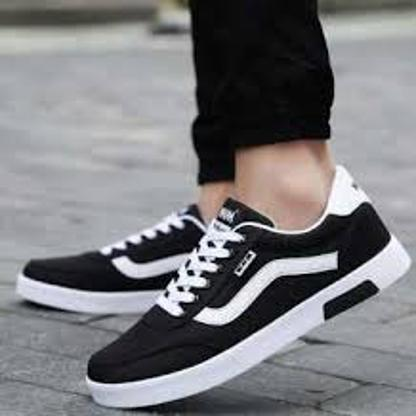not trash: (86, 168, 416, 415), (17, 204, 241, 316)
